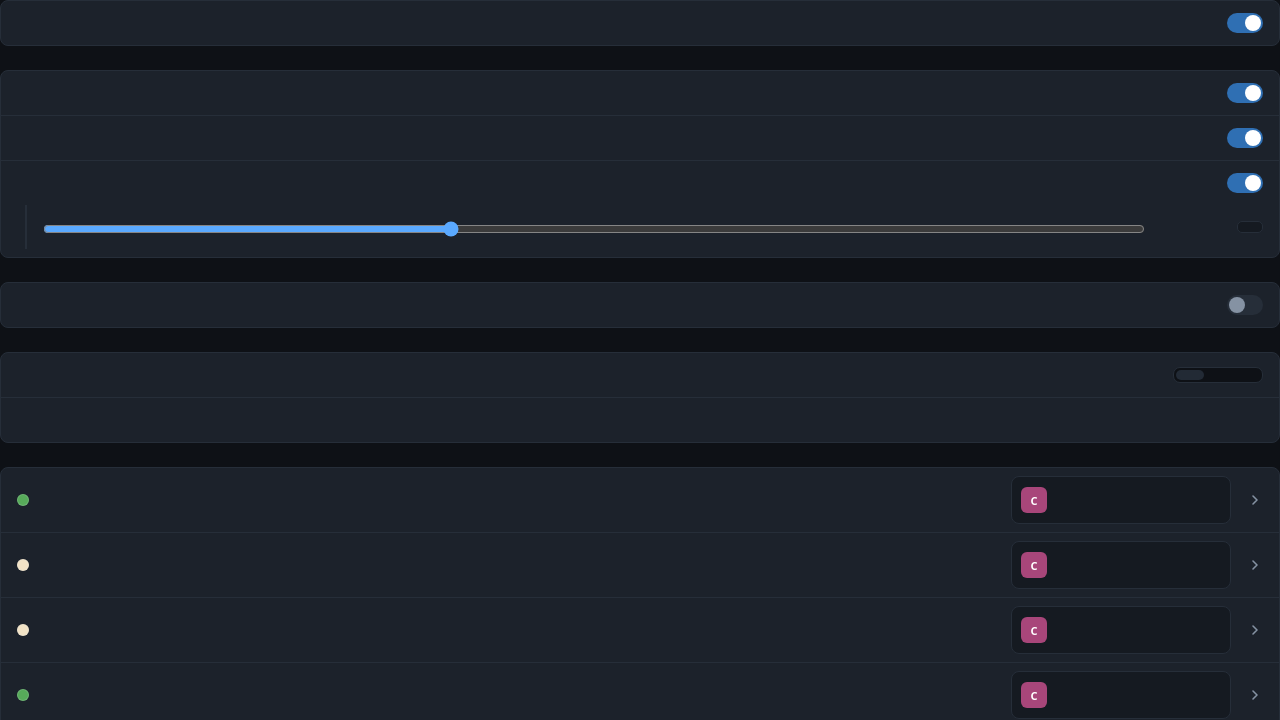
Scenario: AttentionSettings colors and pulse › opens one state's editor at a time
What coordinates should you click on to do the following:
click the 2nd button "C"
I would click on:
 (1121, 565)
Its box is [1,533,1279,597].
(page scrolled)
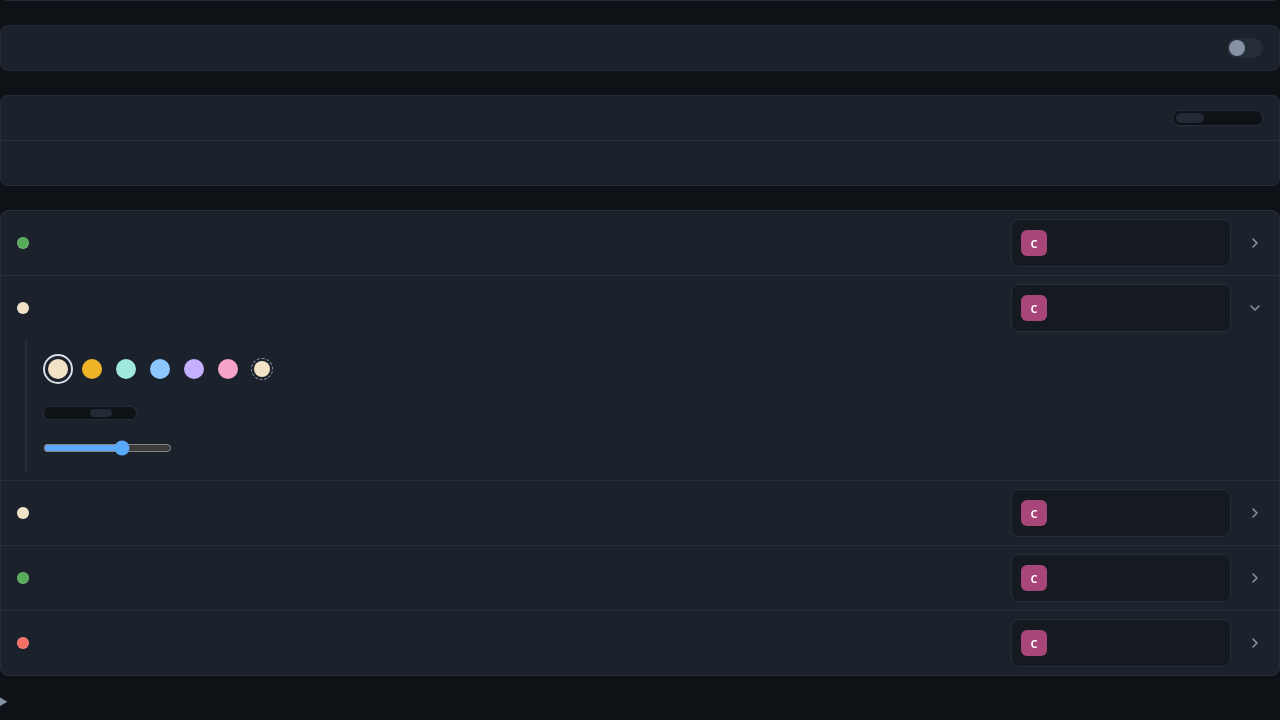
Expected: the element with id "look-done-editor" is shown, [25,340,1263,472]
Expected: the colour field is shown, [251,358,273,380]
What coordinates should you click on to do the following:
click the 3rd button "C"
I would click on:
 (1121, 513)
Its box is [1,481,1279,545].
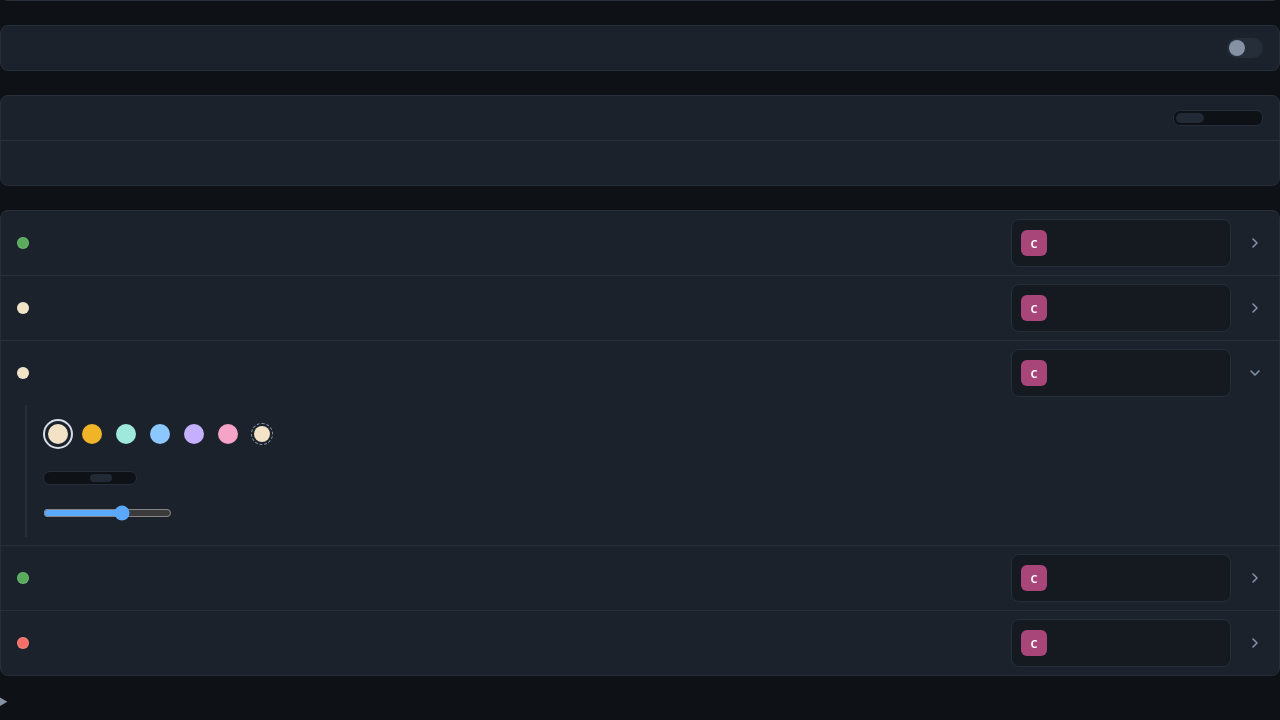
Expected: the element with id "look-done-editor" is gone
Expected: the element with id "look-asks-editor" is shown, [25,405,1263,537]
What coordinates should you click on to do the following:
click the 3rd button "C"
I would click on:
 (1121, 373)
Its box is [1,341,1279,405].
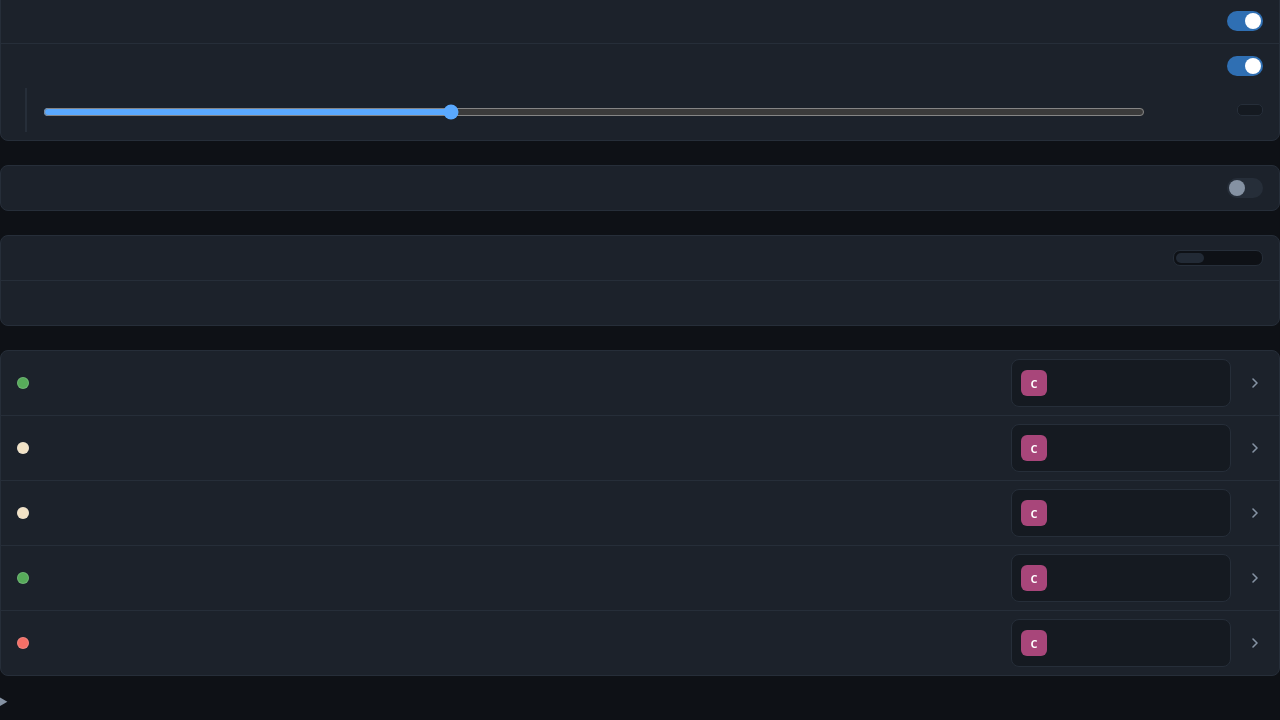
Expected: the element with class "look-editor" is gone
